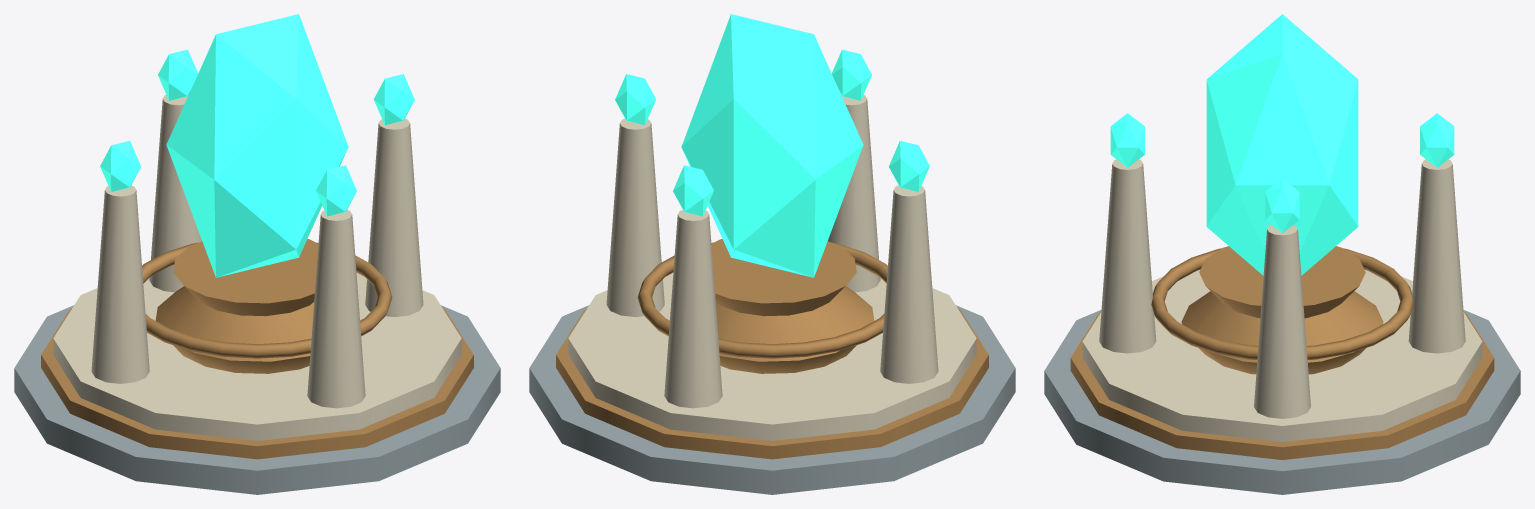
Rendered from sunfall-rift-moba-teal-core-60583254__21979.glb.
3 renders of one model, left to right at view 1: azimuth 30°, elevation 25°; view 2: azimuth 150°, elevation 25°; view 3: azimuth 270°, elevation 25°, orthographic. The views are drawn at different scales.
Visible parts, largest first — view 1: teal-core; view 2: teal-core; view 3: teal-core.
Boxes of the visible parts, <box> form: teal-core: <box>14,14,500,494</box>; teal-core: <box>529,14,1015,494</box>; teal-core: <box>1044,14,1520,494</box>.
Bounding box in the file's own units: 4 × 3.34 × 4.
